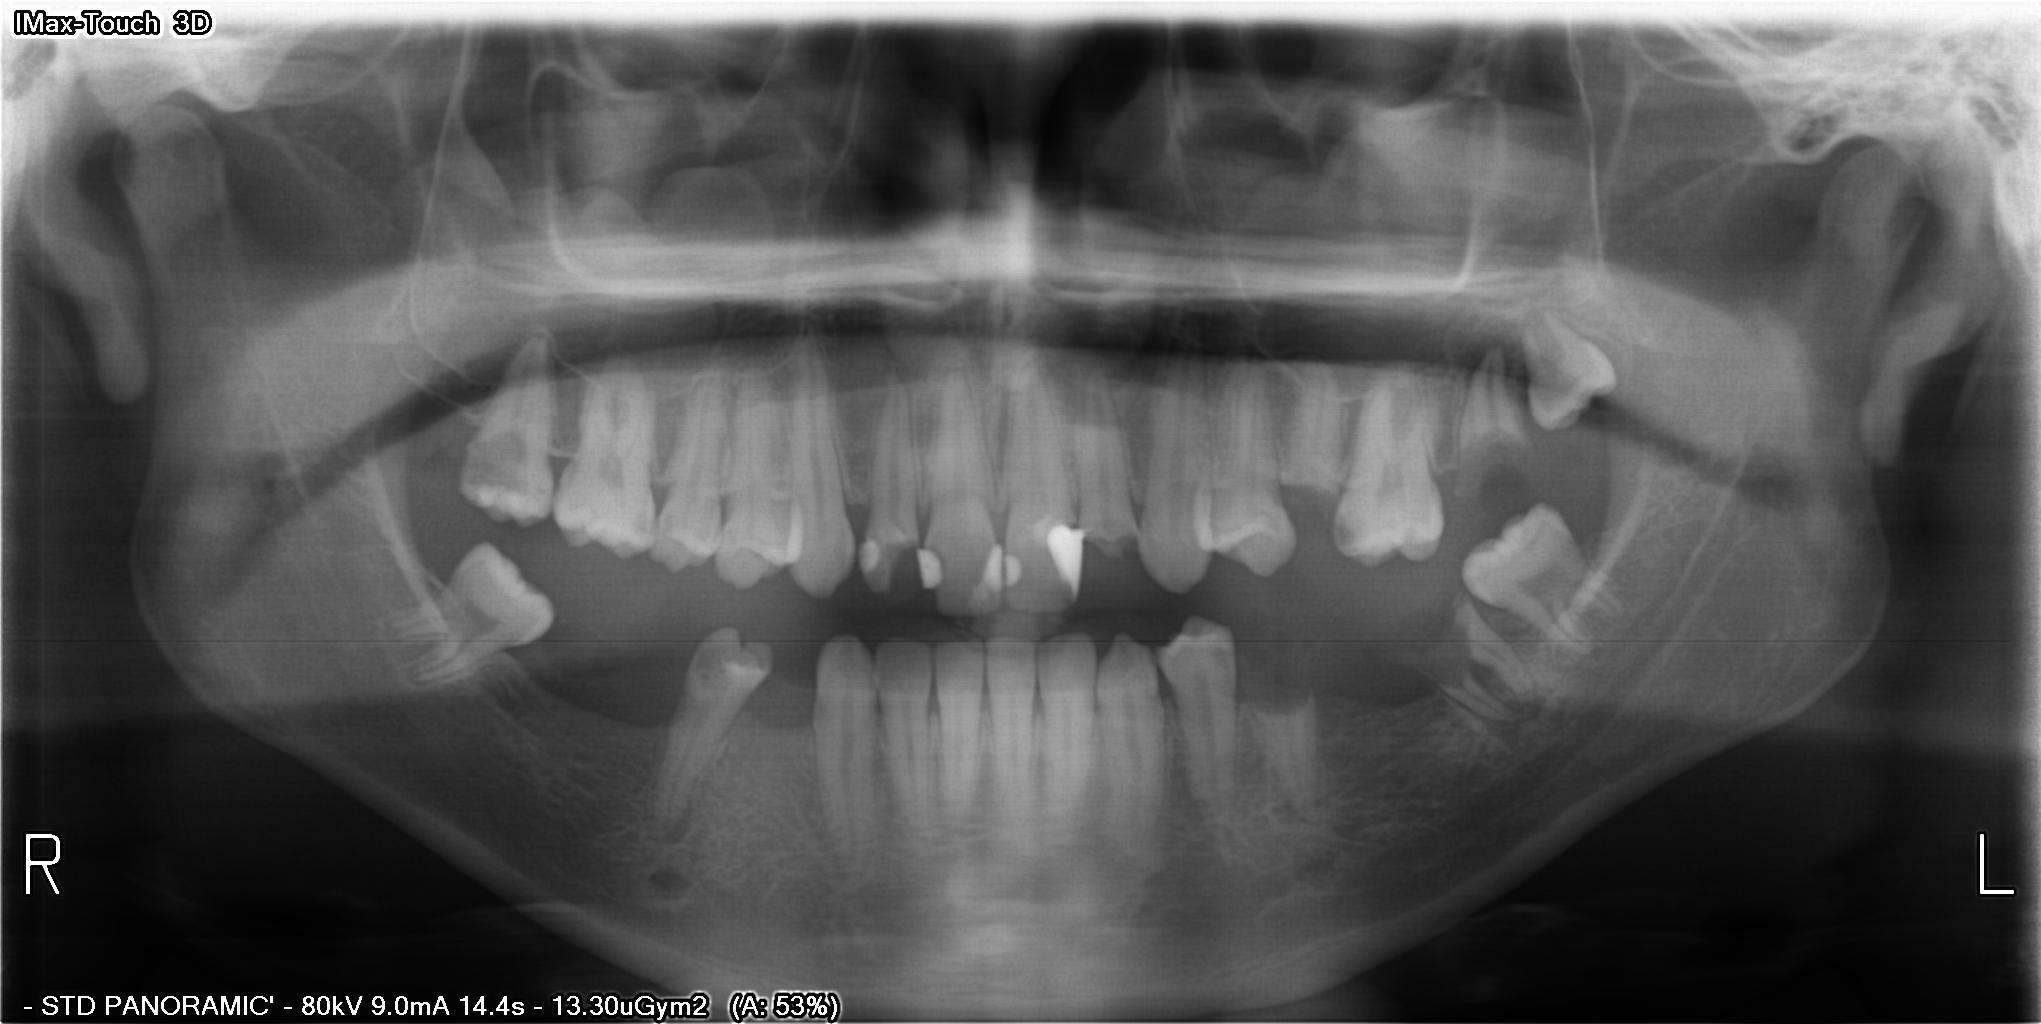Çürük: (974, 542, 1015, 602), (1052, 525, 1085, 596), (914, 550, 944, 583), (858, 539, 881, 572), (999, 555, 1021, 585)
Çürük Bölgesi: (457, 435, 534, 499), (1460, 435, 1524, 491), (1413, 636, 1476, 683), (689, 643, 740, 682), (880, 536, 909, 585), (1092, 524, 1141, 552), (923, 533, 957, 560)
